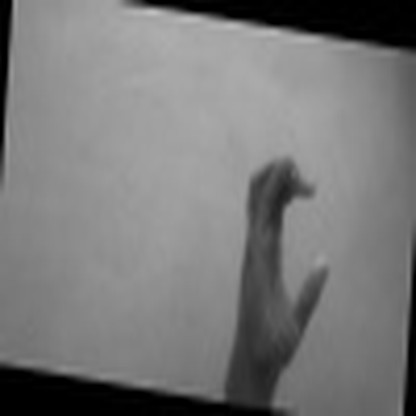c: (231, 142, 334, 368)
